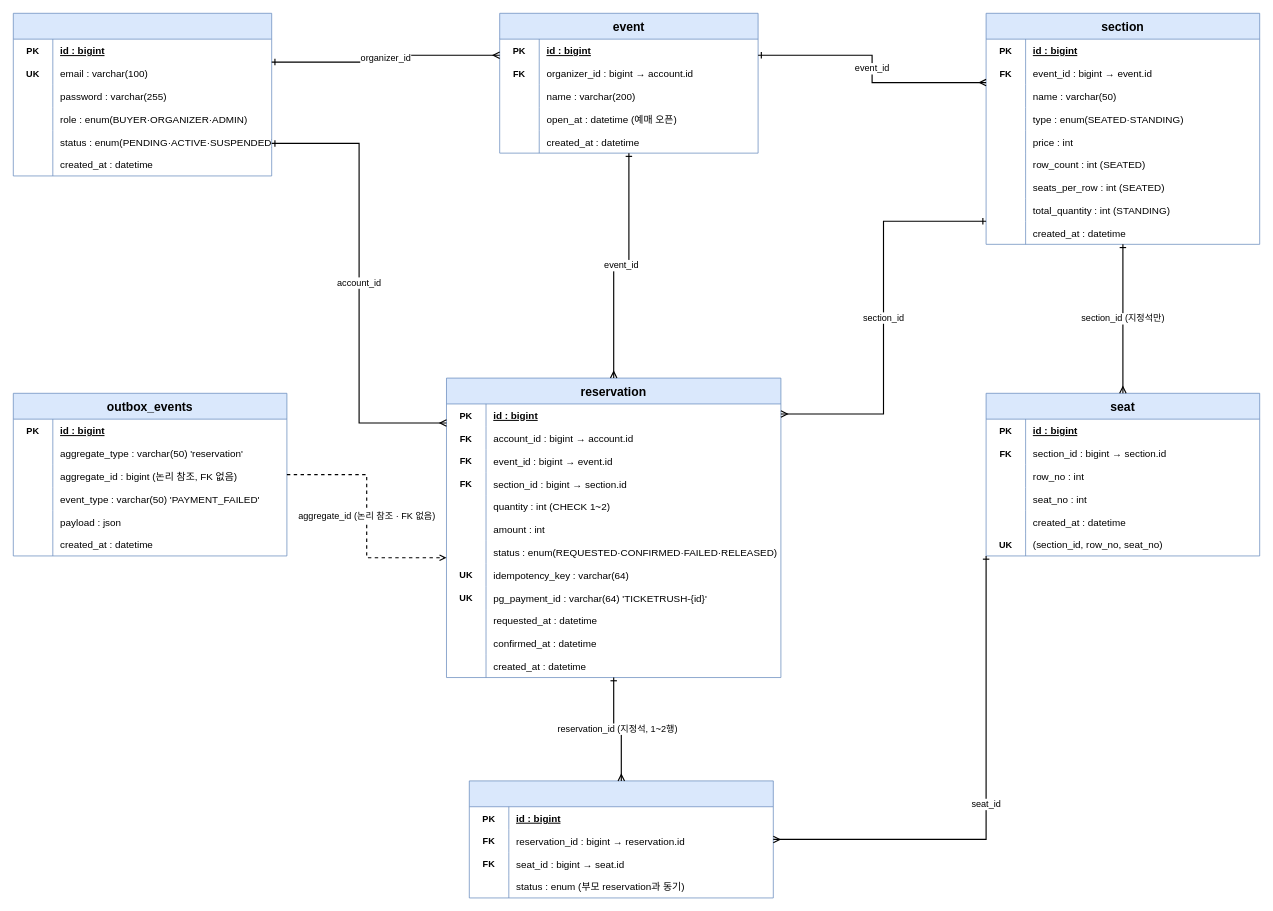
This 1273x911 diagram has some shape labels left out. The box of each missing label's shape, as (x1, y1, x2, y2) in pixels:
account: (13, 13, 272, 176)
reservation_seat: (469, 780, 773, 898)
